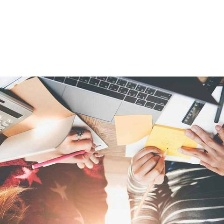news_paper: (0, 73, 111, 167), (141, 121, 205, 162), (111, 112, 154, 148)
